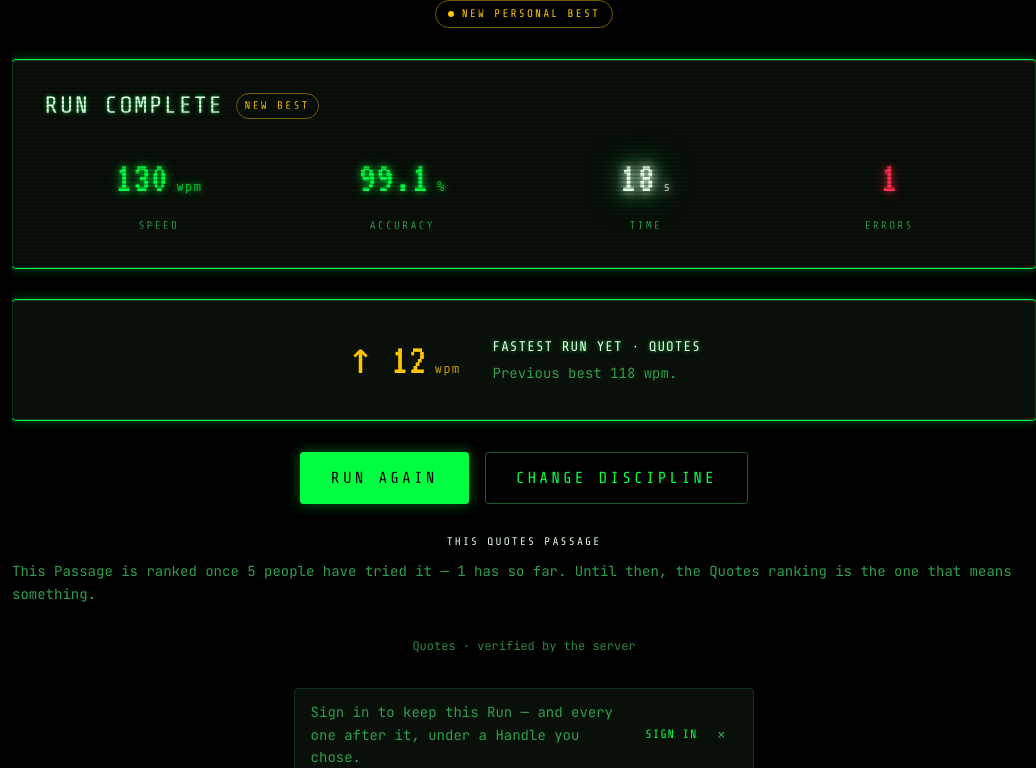
the invitation to sign in on the result screen › is not a persistent header nag: dismissing it removes it for the rest of the visit
Click the button named "dismiss" at (721, 735), box [705, 719, 737, 751]
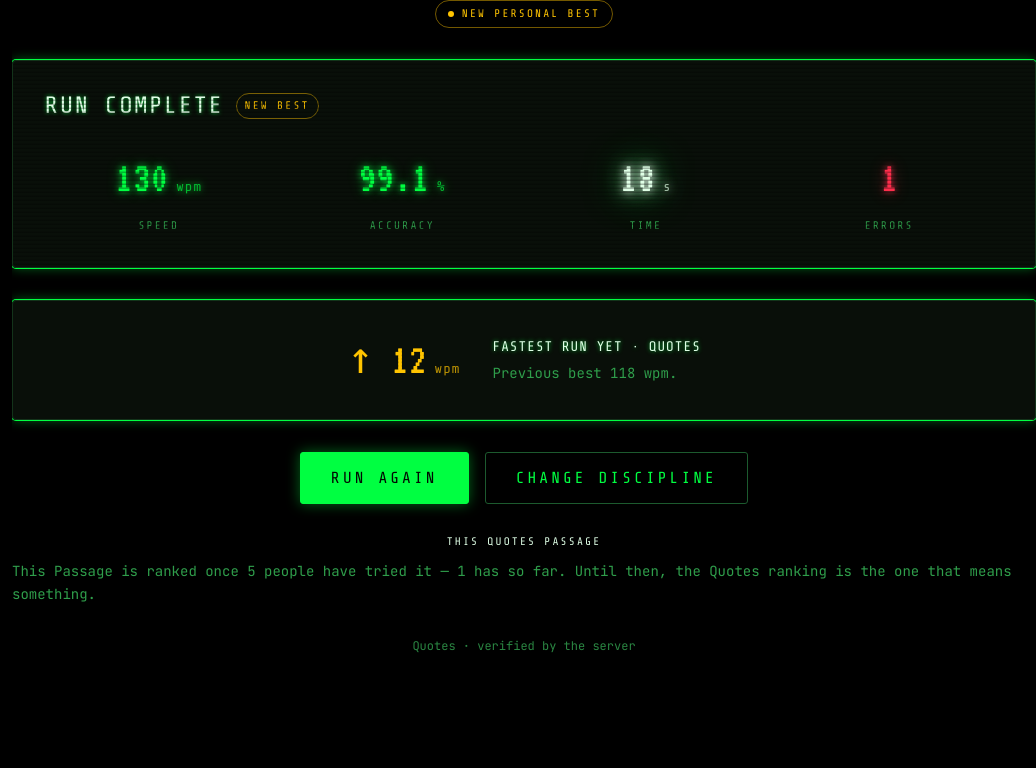
Expected: the text "Sign in" is gone
